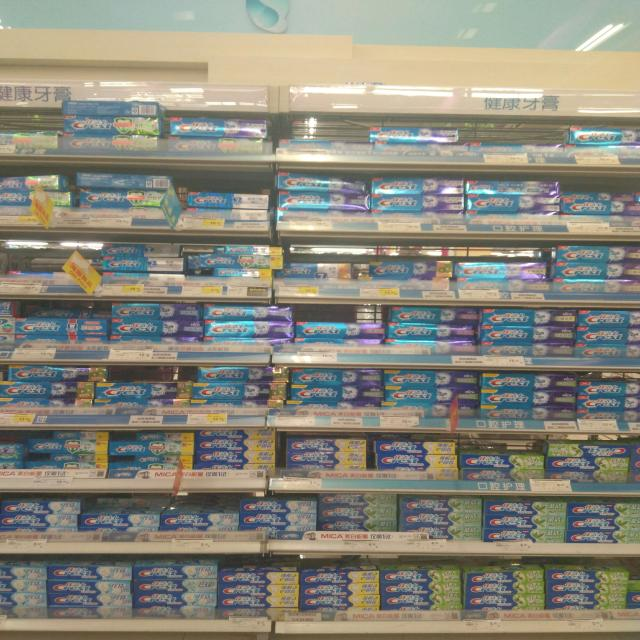unorganised: (96, 493, 175, 508), (46, 428, 111, 441), (121, 431, 196, 442), (130, 455, 194, 465), (220, 247, 285, 256), (47, 453, 103, 460)
